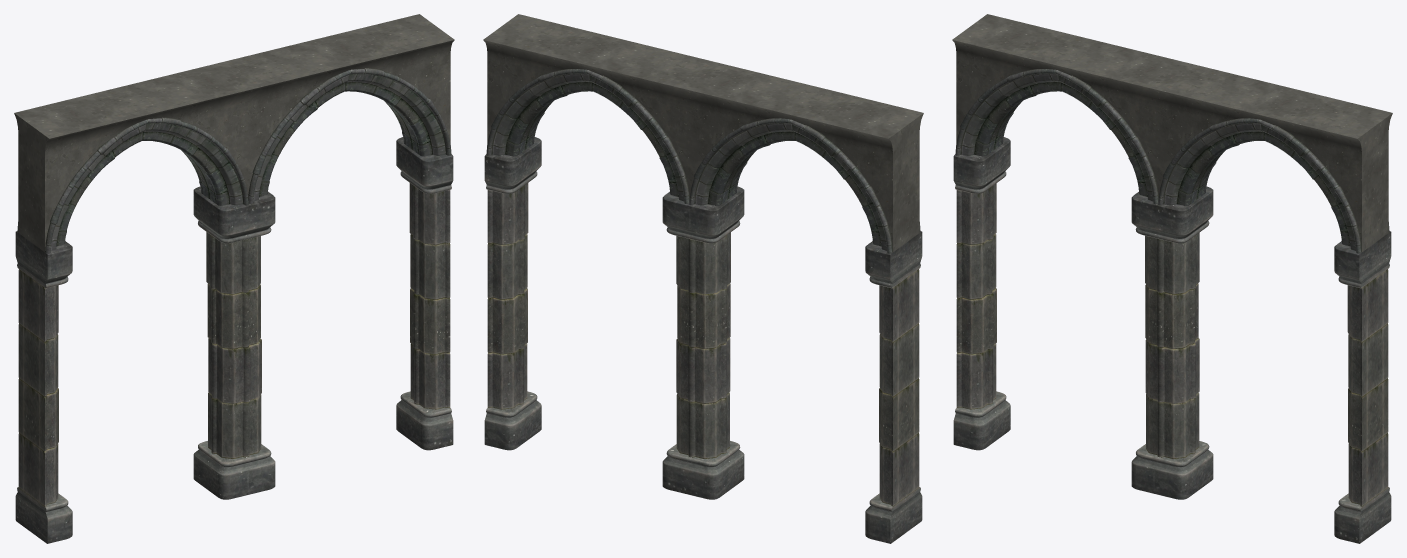
3 renders of one model, left to right at view 1: azimuth 30°, elevation 25°; view 2: azimuth 150°, elevation 25°; view 3: azimuth 330°, elevation 25°, orthographic.
Parts seen in each view (by area): view 1: SM_DeathTemple_Arch_12x12_02_v3_LOD0; view 2: SM_DeathTemple_Arch_12x12_02_v3_LOD0; view 3: SM_DeathTemple_Arch_12x12_02_v3_LOD0.
Boxes of the visible parts, <box> form: SM_DeathTemple_Arch_12x12_02_v3_LOD0: <box>14,14,454,543</box>; SM_DeathTemple_Arch_12x12_02_v3_LOD0: <box>483,14,923,543</box>; SM_DeathTemple_Arch_12x12_02_v3_LOD0: <box>952,14,1392,543</box>.
Size of the model in its own units: 12 by 11.5 by 1.81.
Materials: 3 (3 with a texture image).
